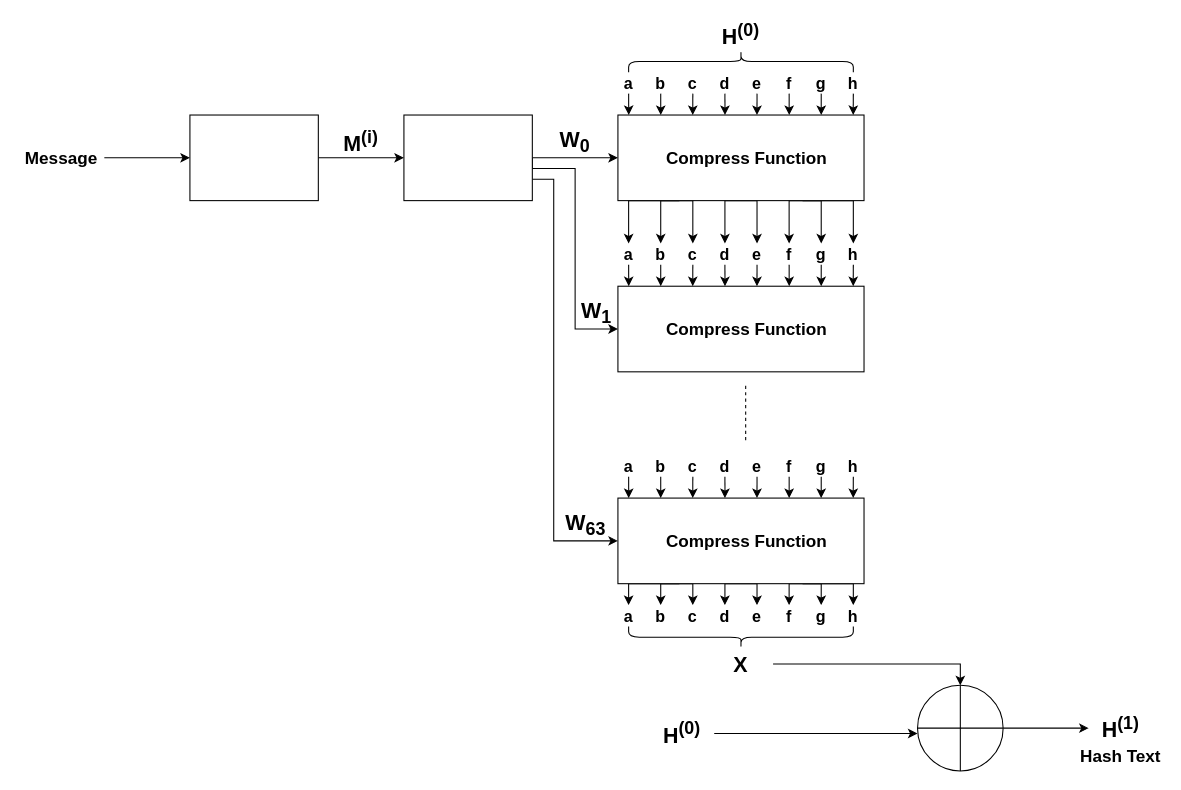
This 1181x790 diagram has some shape labels left out. The centre of each missing label's shape, as x and y in pixels:
Expansion: [467,157]
Padding: [253,157]
